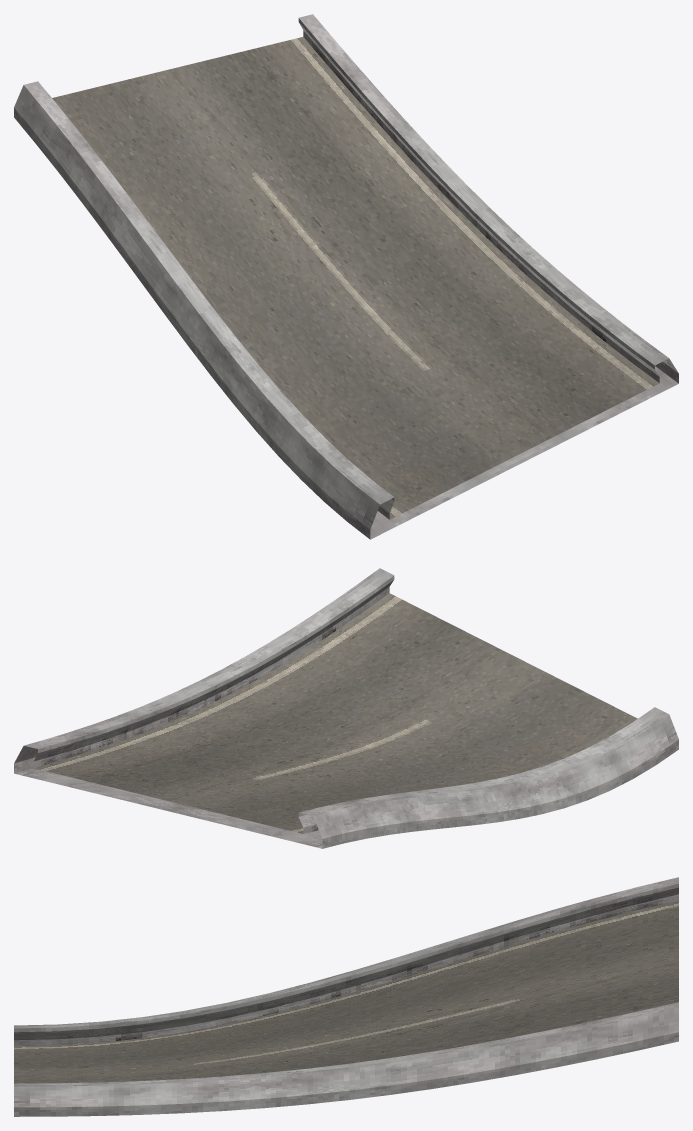
File: straight2.glb
The picture shows the model from 3 angles, top to bottom: view 1: azimuth 30°, elevation 25°; view 2: azimuth 150°, elevation 25°; view 3: azimuth 270°, elevation 25°; orthographic projection. The views are drawn at different scales.
Visible parts, largest first — view 1: road-Straight-HalfBankedLeft-BiSlopeUp-Up2-Center-Size2; view 2: road-Straight-HalfBankedLeft-BiSlopeUp-Up2-Center-Size2; view 3: road-Straight-HalfBankedLeft-BiSlopeUp-Up2-Center-Size2.
Part boxes in pixels (x1,y1,x2,y2): road-Straight-HalfBankedLeft-BiSlopeUp-Up2-Center-Size2: [14, 14, 678, 539]; road-Straight-HalfBankedLeft-BiSlopeUp-Up2-Center-Size2: [14, 568, 678, 848]; road-Straight-HalfBankedLeft-BiSlopeUp-Up2-Center-Size2: [14, 877, 678, 1116].
Size of the model in its own units: 1 by 0.5937 by 2.
2 materials, 2 textured.
